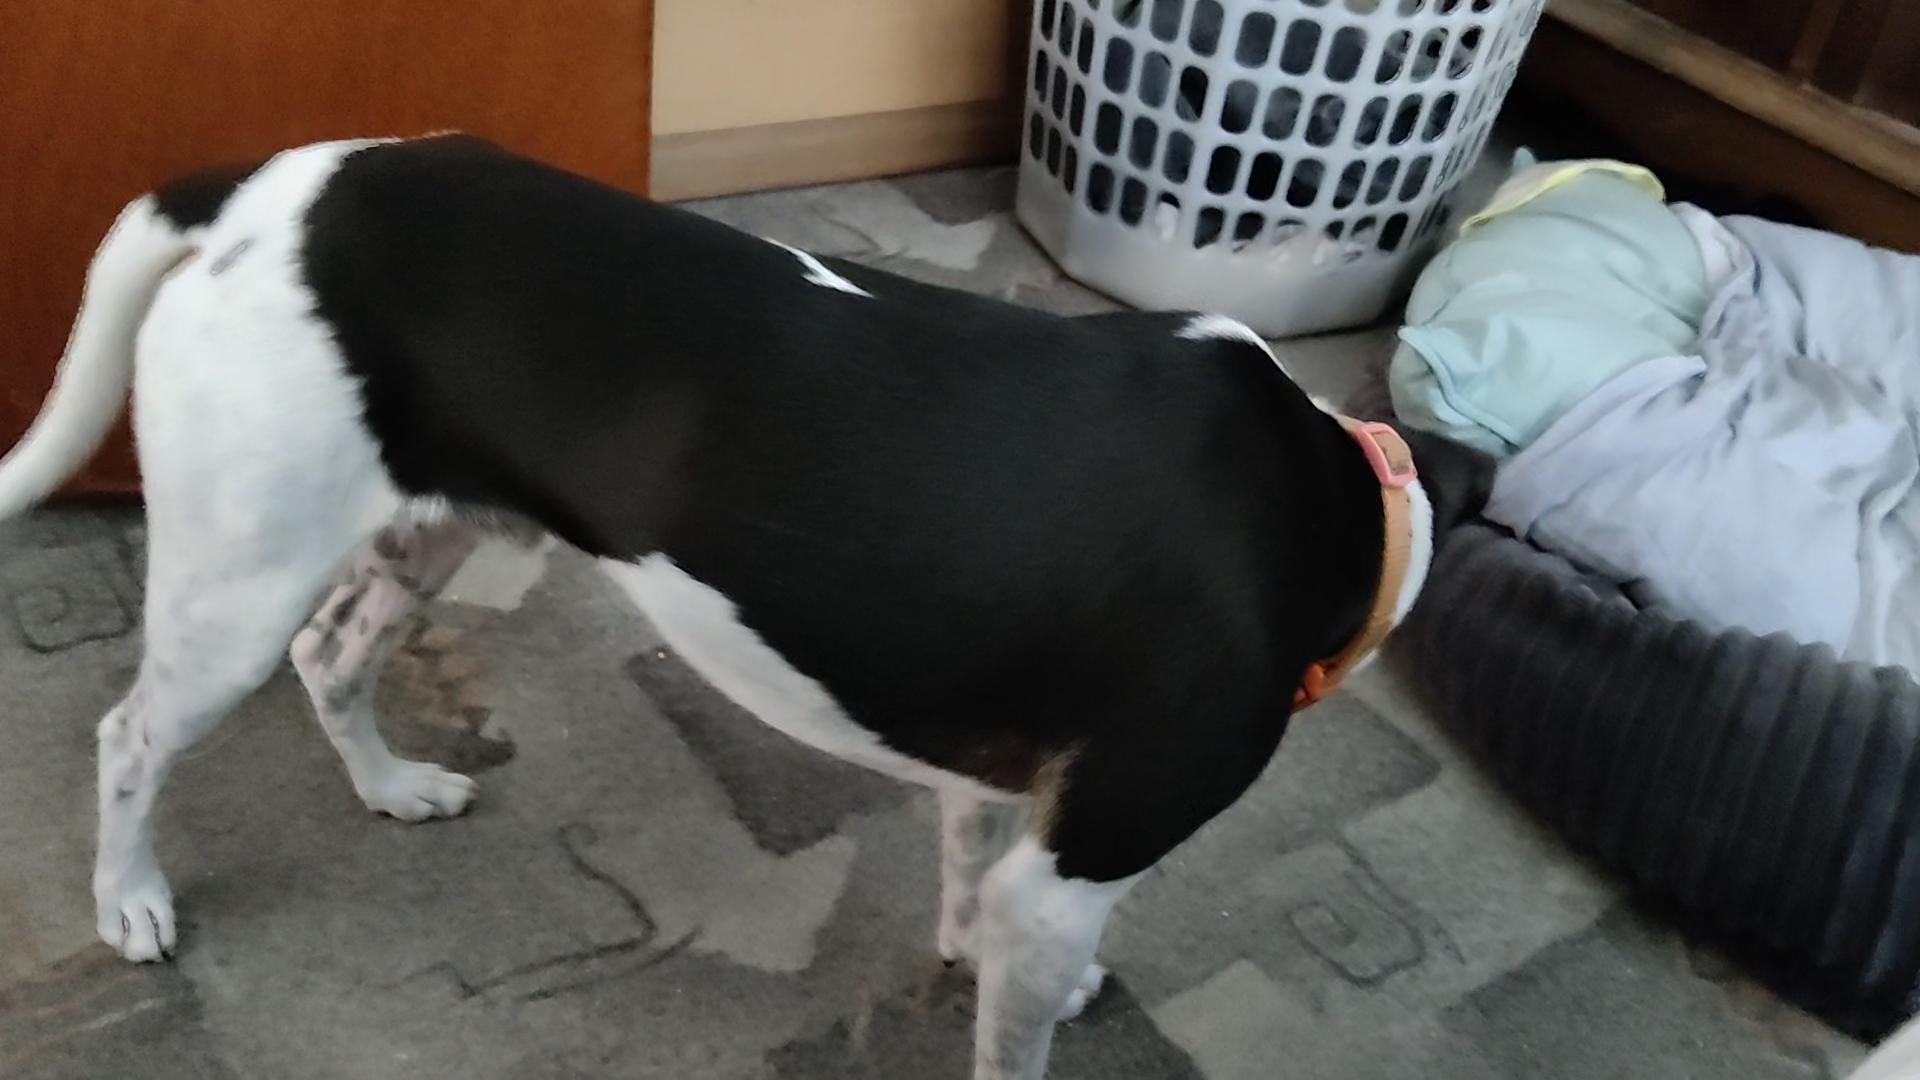Dog: (0, 127, 1505, 1079)
